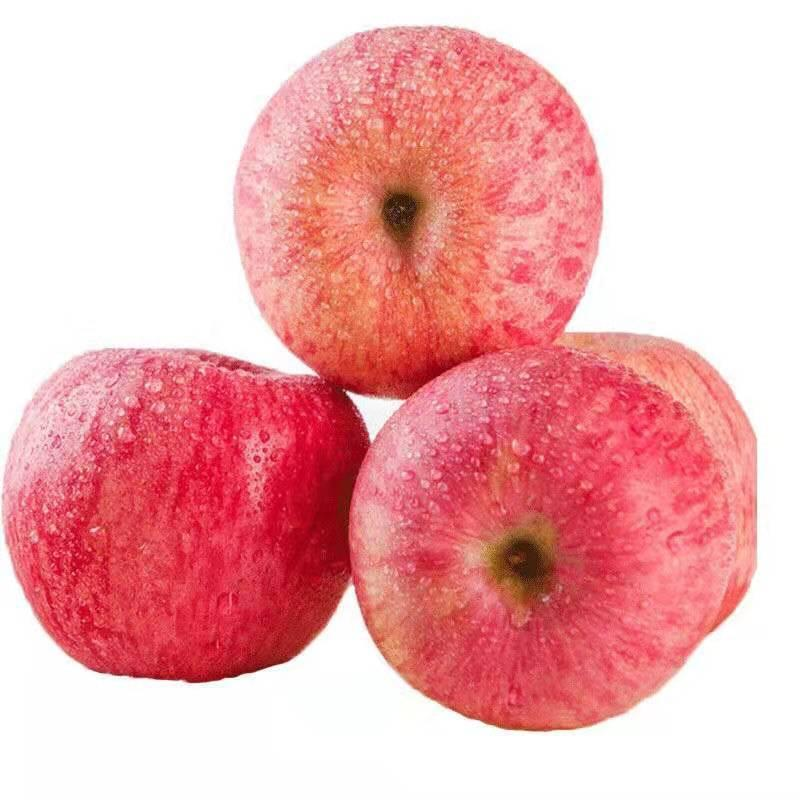apple: (359, 335, 733, 738), (230, 26, 606, 397), (2, 366, 369, 688)
